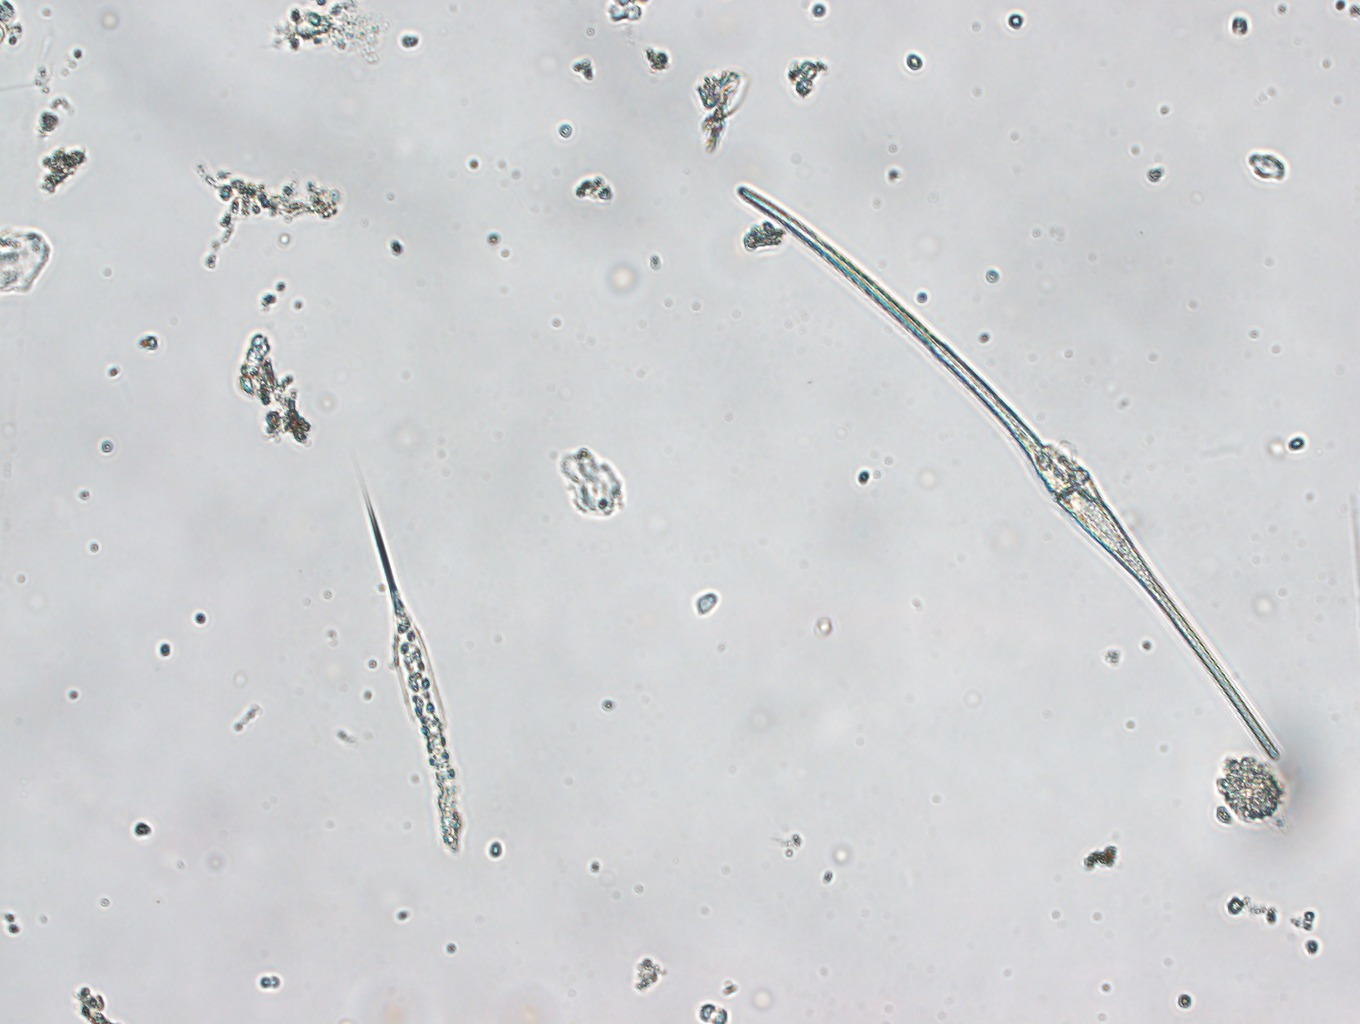ceratium fusus: (724, 179, 1287, 769)
